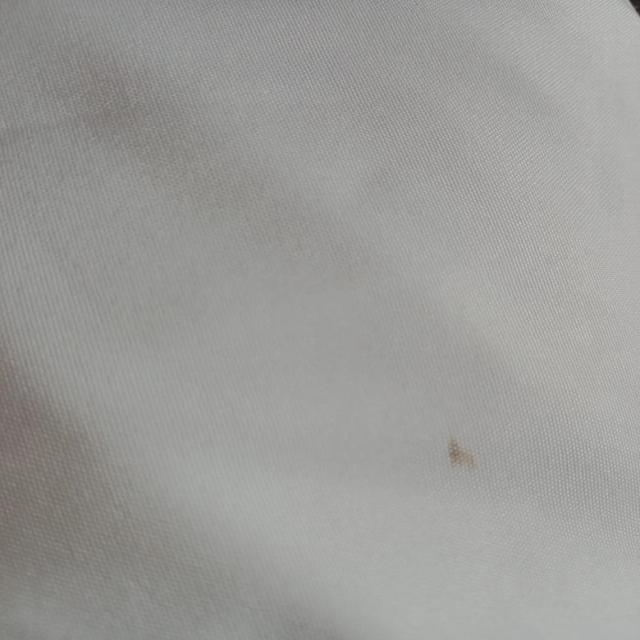stain: (430, 417, 496, 481)
